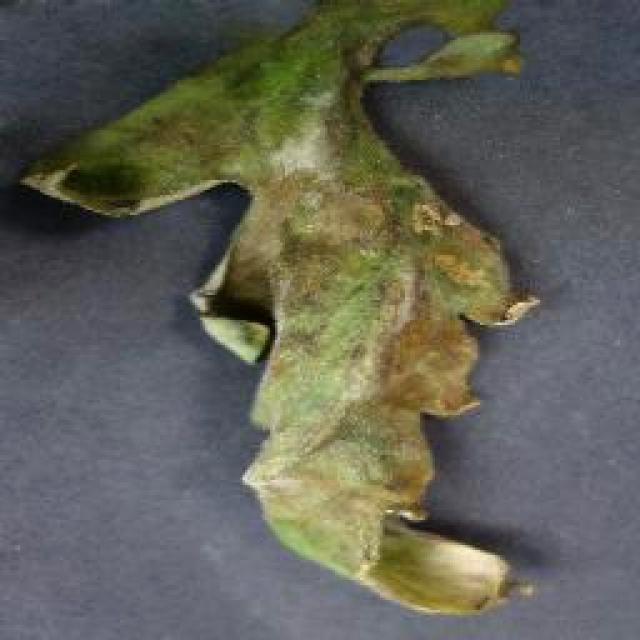Tomato late blight leaf: (16, 0, 563, 618)
